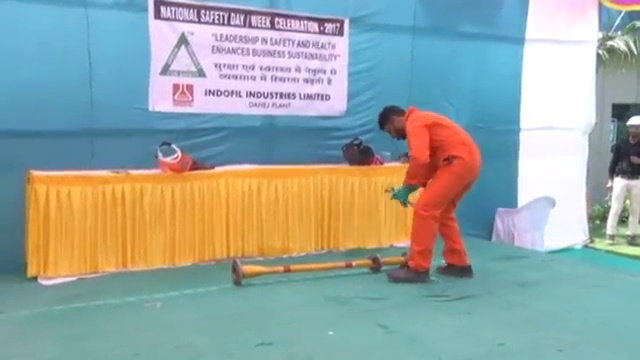helmet: (625, 115, 640, 128)
helmet_off: (375, 105, 409, 141)
helmet_on: (624, 114, 639, 143)
person: (371, 102, 476, 286), (603, 113, 640, 245)
